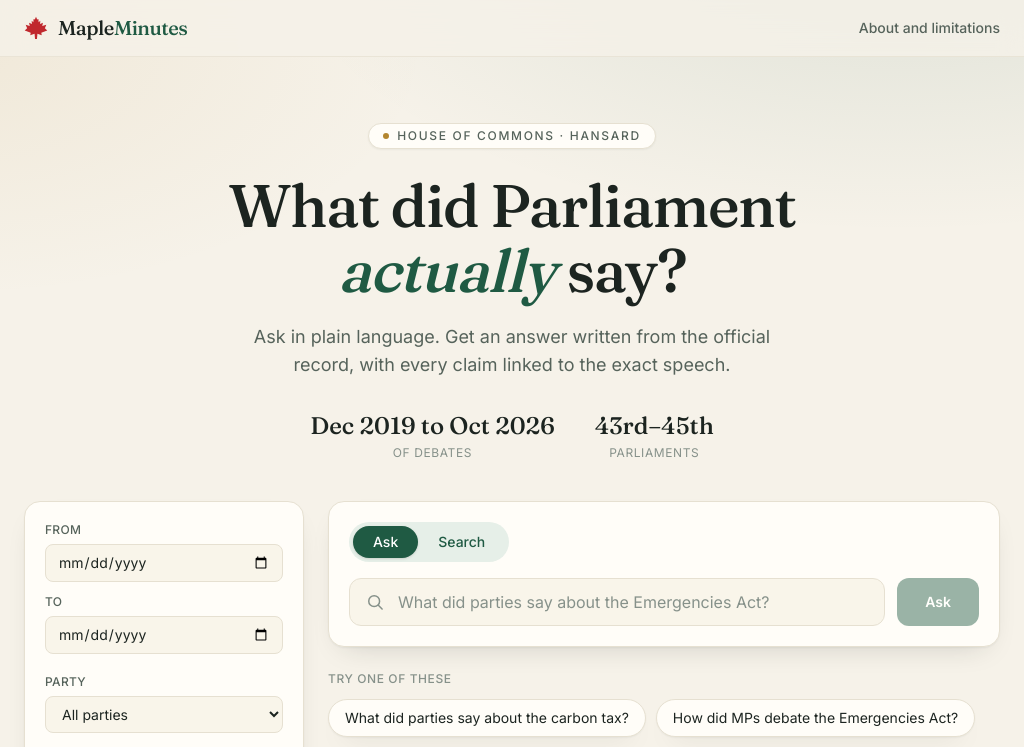
App › starts with examples and the About section, and no chart yet
Check: the text "Minutes" is shown, box [114, 15, 187, 40]
Check: the heading shows "What did Parliament actually say", box [228, 168, 796, 307]
Click the button "What did parties say about the carbon tax?": click(487, 718) [328, 699, 646, 737]
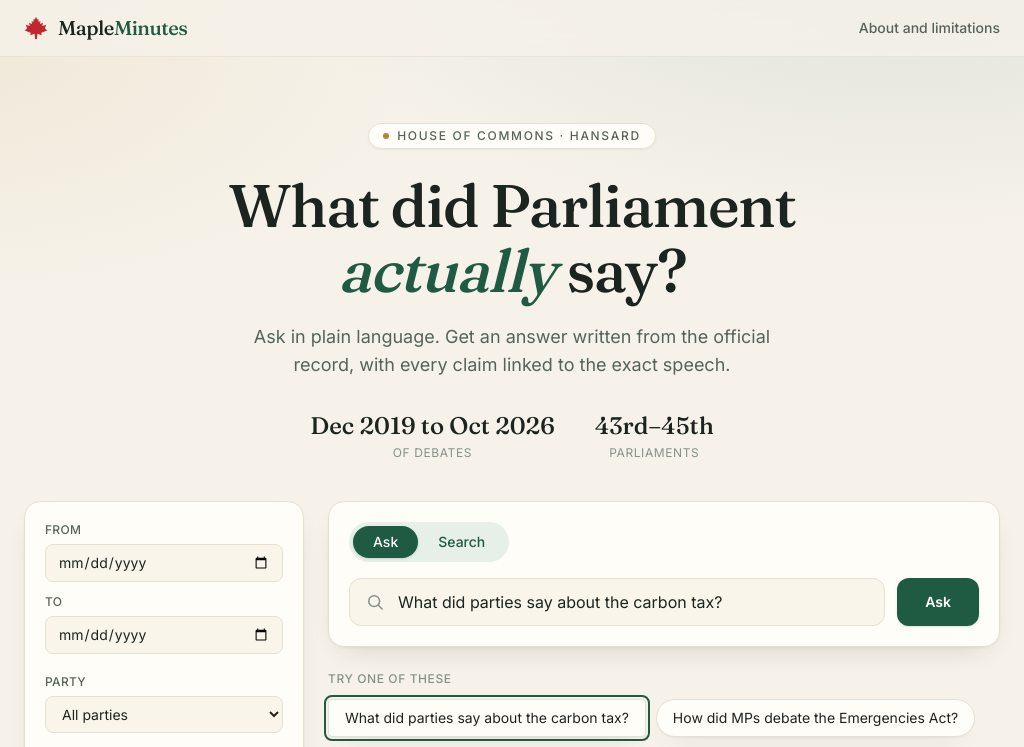
Check: the search field holds "What did parties say about the carbon tax?", box [349, 578, 885, 626]
